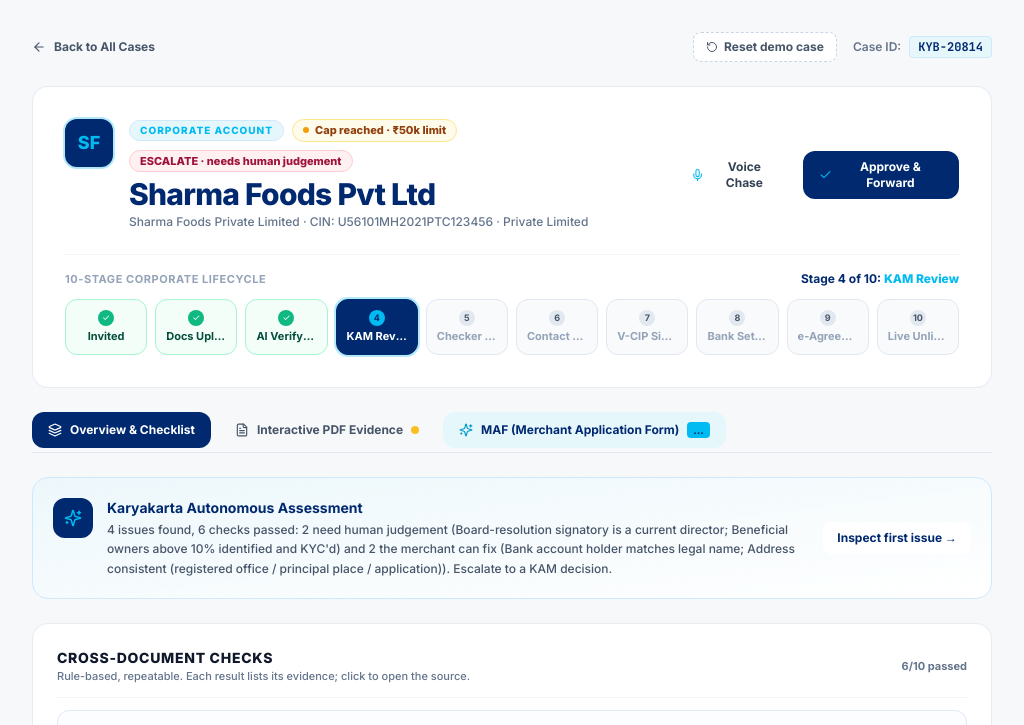
Reset demo case › asks first, then resets, and shows the server refusal when demo controls are off
Later steps or results of the test are not shown.
Click the button "Reset demo case" at (765, 47), box [693,32,837,62]
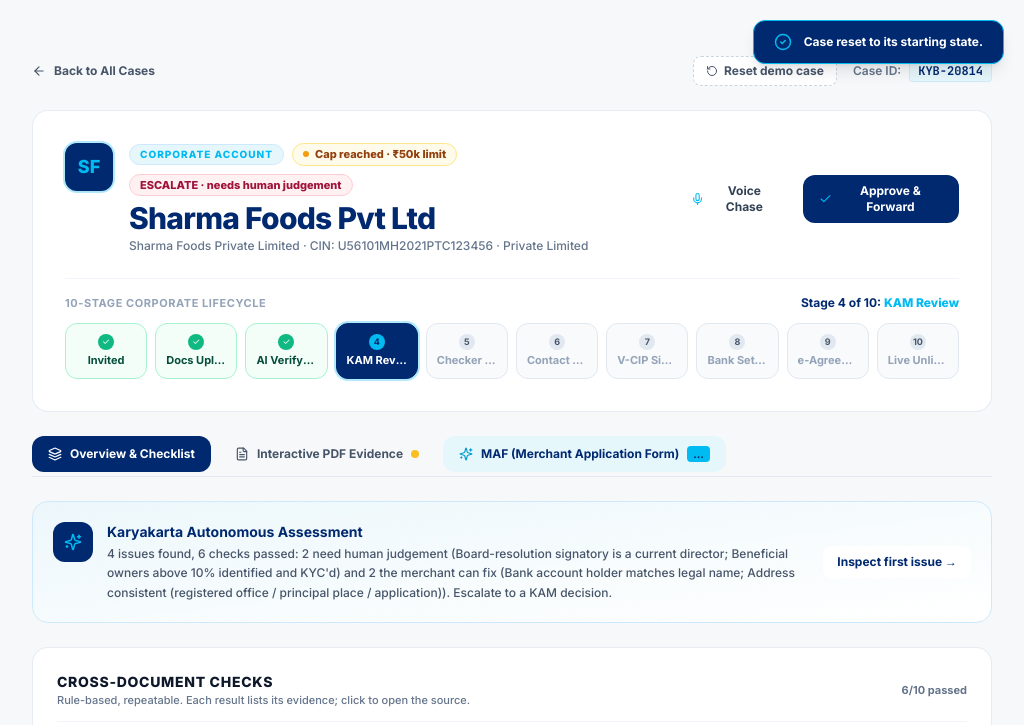
Result: the text "Case reset to its starting state." is shown at [804,34,983,50]
